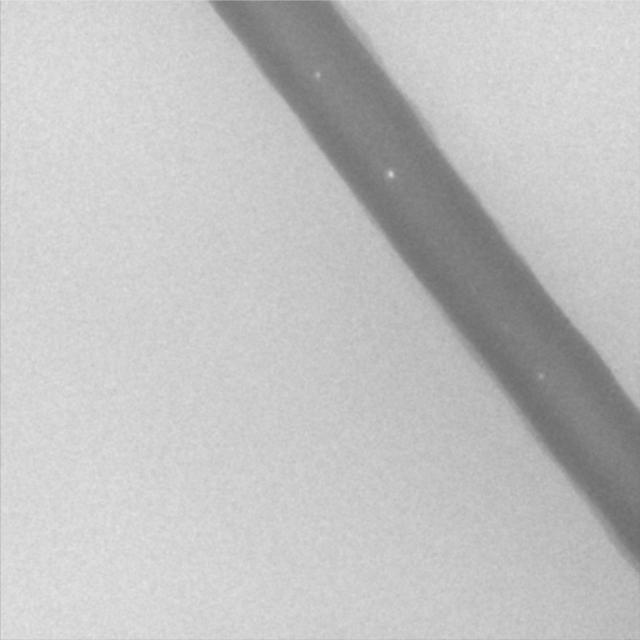air hole: (385, 168, 396, 180), (312, 68, 321, 80)
